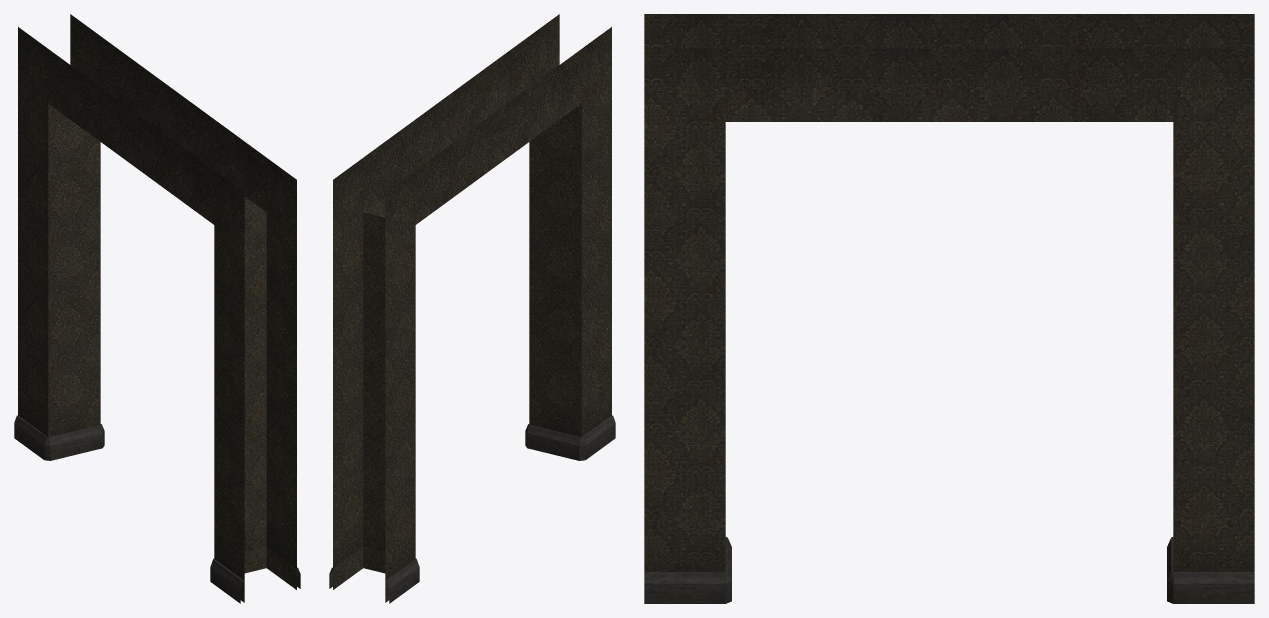
File: arc_1_wall_2_2.glb
The picture shows the model from 3 angles, left to right: view 1: azimuth 30°, elevation 25°; view 2: azimuth 150°, elevation 25°; view 3: azimuth 270°, elevation 25°; orthographic projection. The views are drawn at different scales.
Visible parts, largest first — view 1: arc_1_wall_2_2; view 2: arc_1_wall_2_2; view 3: arc_1_wall_2_2.
Boxes of the visible parts, box(x1,y1,x2,y2) form: arc_1_wall_2_2: box(14, 14, 300, 603); arc_1_wall_2_2: box(329, 14, 615, 603); arc_1_wall_2_2: box(644, 14, 1254, 603).
Bounding box in the file's own units: 0.46 × 3 × 3.
2 materials, 2 textured.
